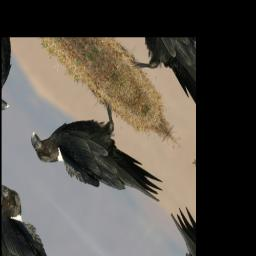Crow: (23, 64, 180, 253)
